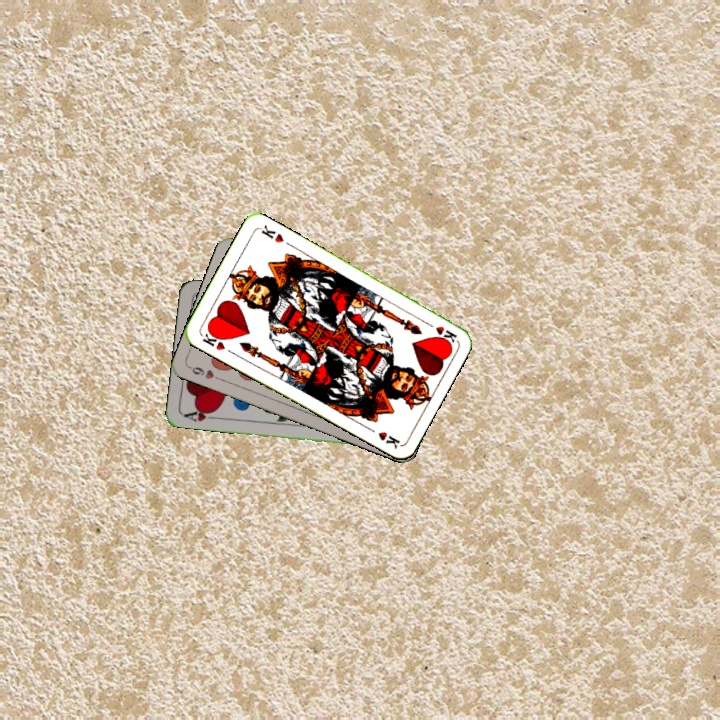H9: (186, 362, 225, 383)
HA: (180, 405, 221, 424)
HK: (198, 326, 235, 356), (421, 317, 460, 345)
